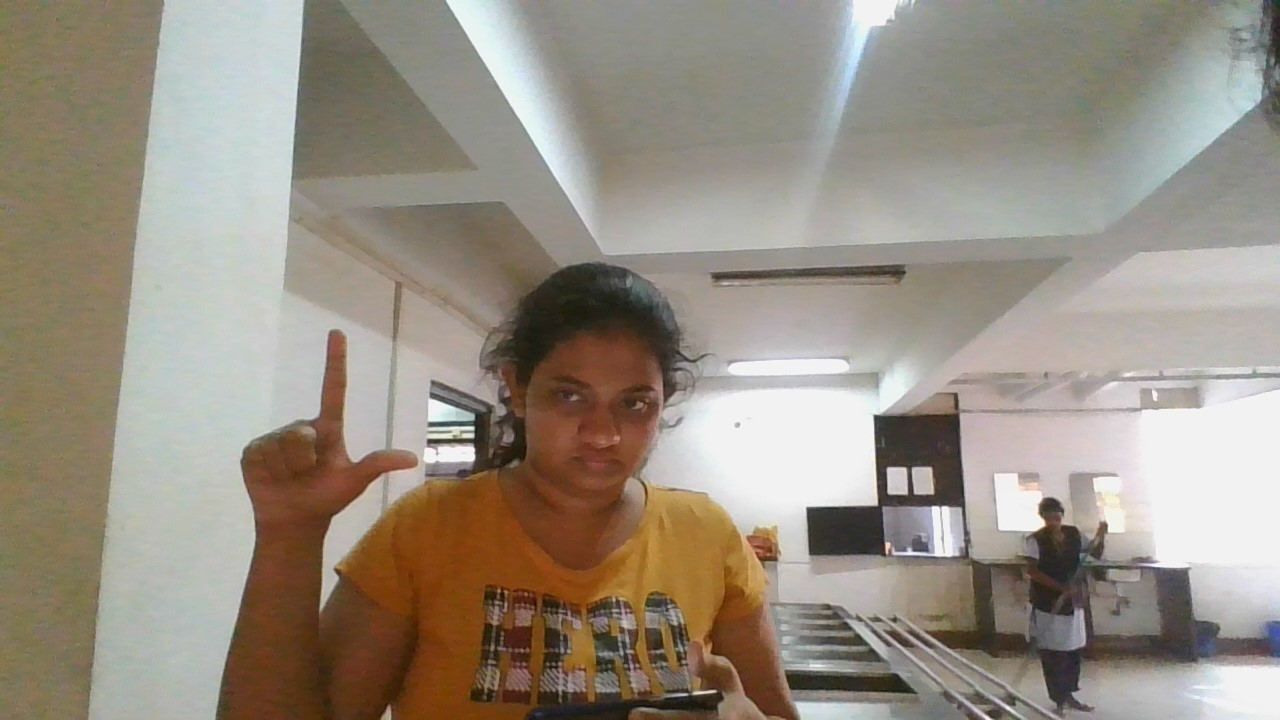l: (228, 324, 425, 544)
